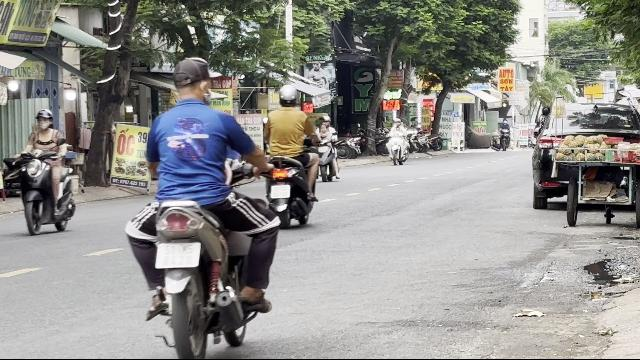helmet: (277, 84, 299, 108), (34, 108, 54, 130)
licenseplate: (156, 245, 200, 269), (270, 185, 290, 198)
motorcyclist: (122, 54, 284, 356), (8, 108, 80, 236), (260, 84, 320, 228)
nohelmet: (170, 57, 212, 103)
